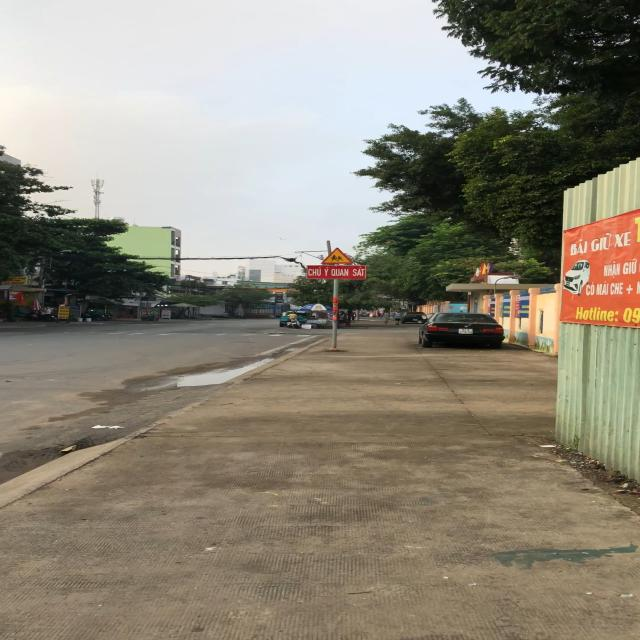Bien bao tre em: (320, 246, 357, 265)
